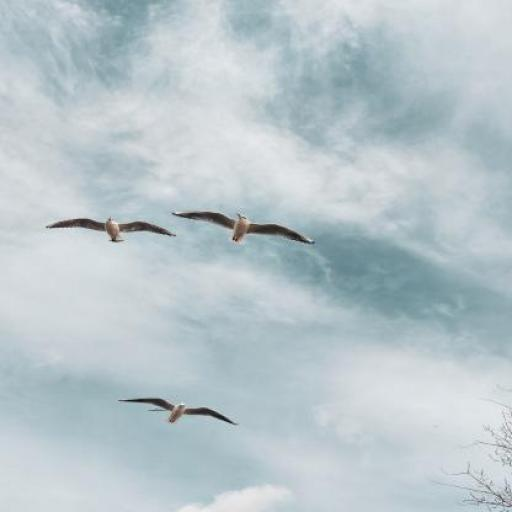bird: (172, 212, 318, 246), (118, 397, 239, 426), (46, 216, 177, 242)
